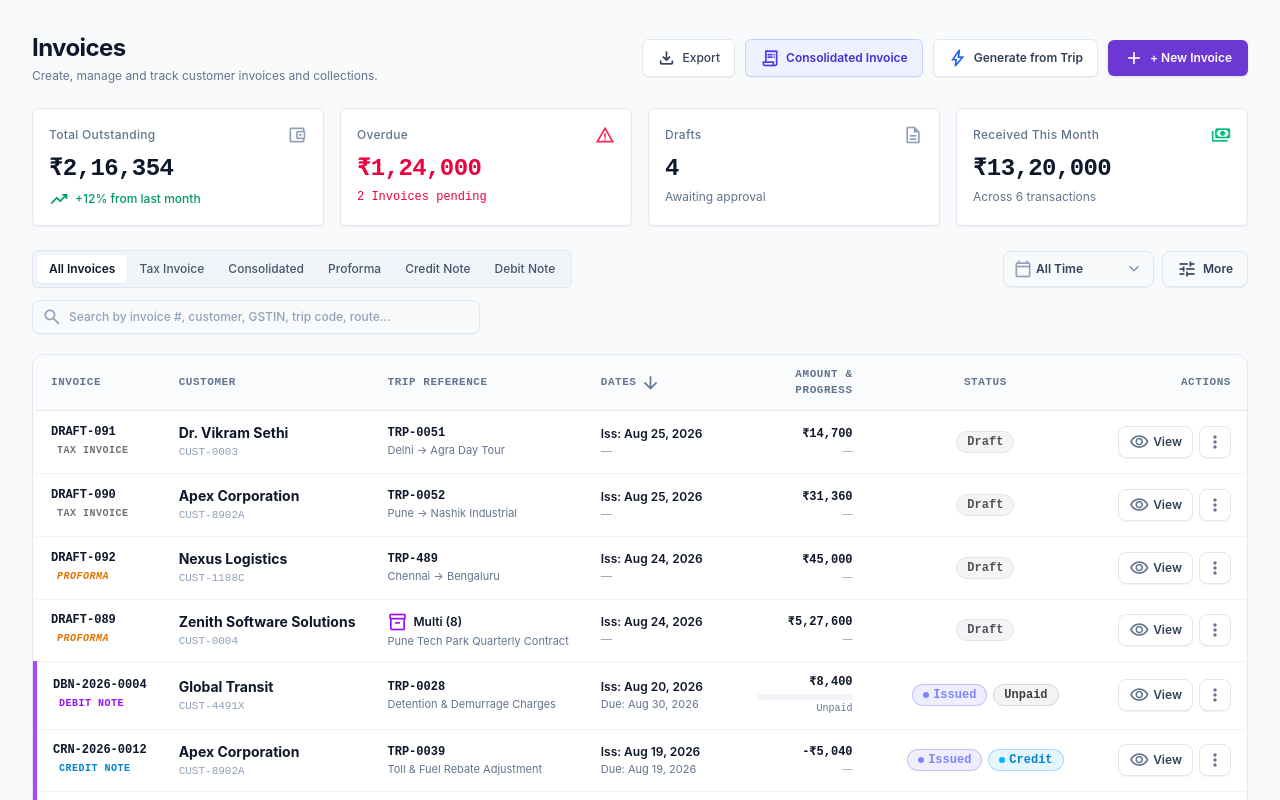
Test: InvoiceList Page › renders mobile invoice cards with View Details and more actions
This screenshot has width=1280, height=800.
Note: Click View Details on first card to open modal
Click the button with aria-label "View Details": (1156, 442) [1118,426,1193,458]
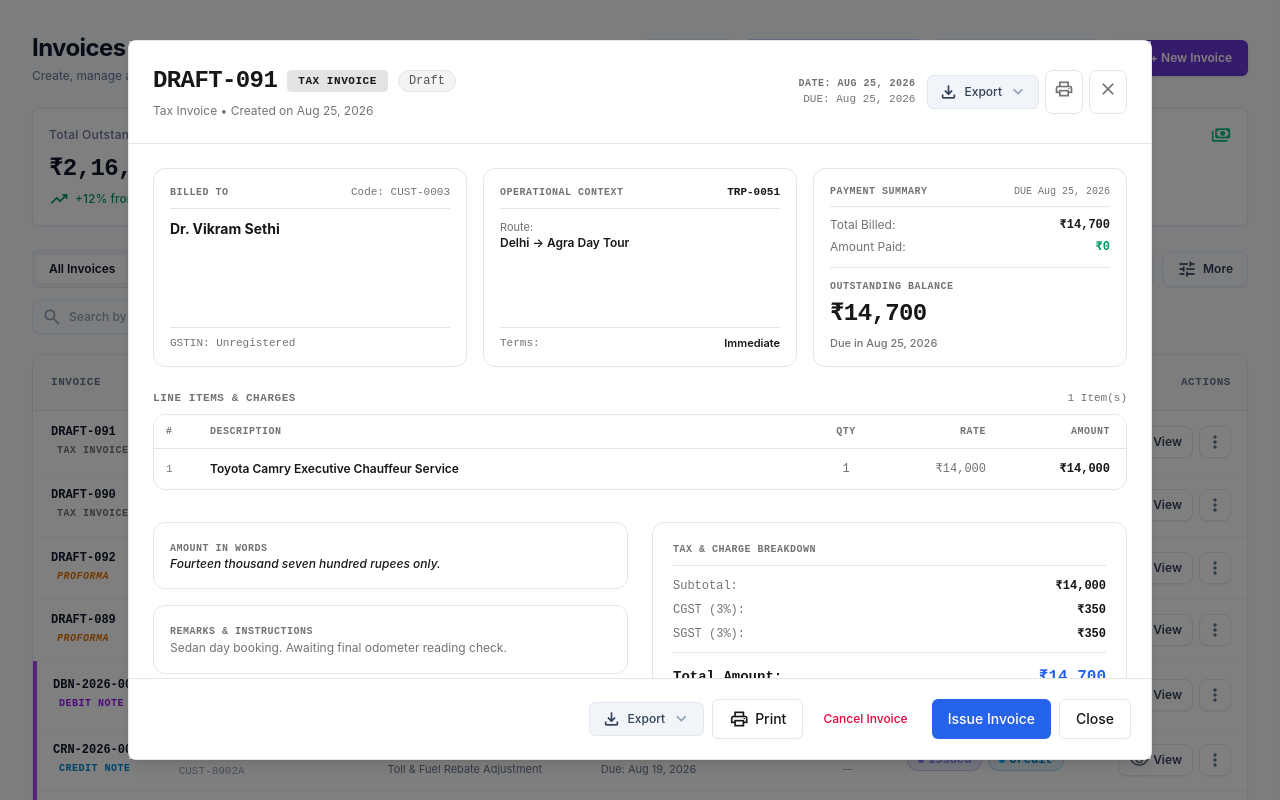
Result: the text "Line Items & Charges" is shown at [153,391,296,406]
